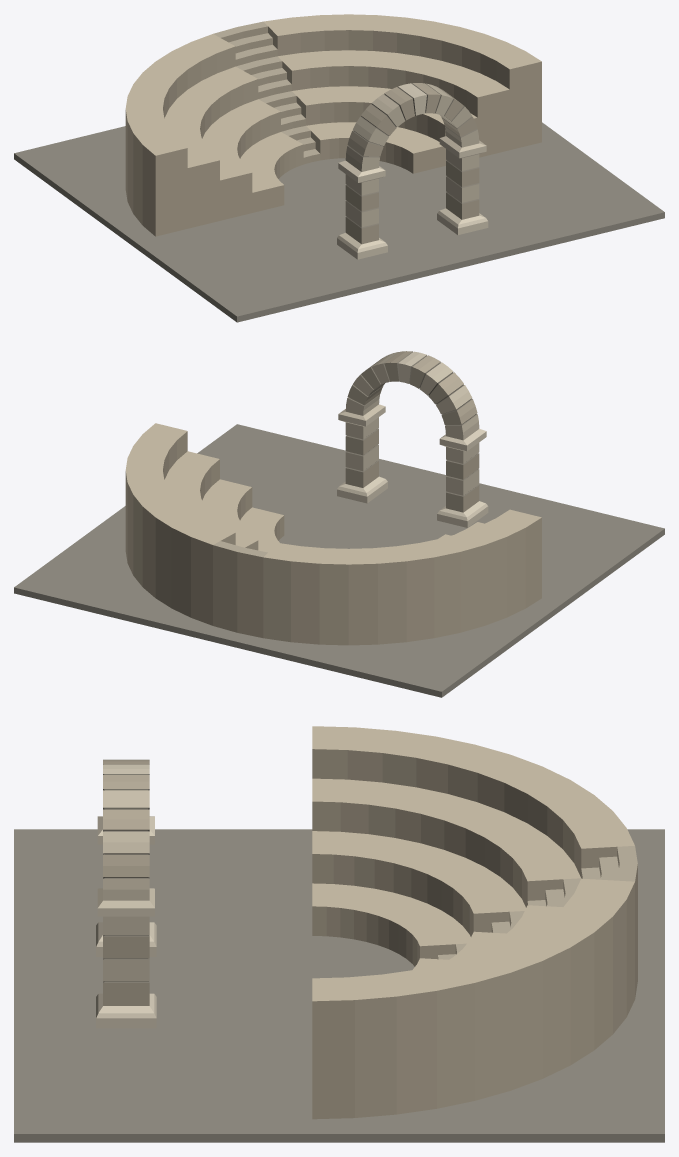
3 renders of one model, top to bottom at view 1: azimuth 30°, elevation 25°; view 2: azimuth 150°, elevation 25°; view 3: azimuth 270°, elevation 25°, orthographic. The views are drawn at different scales.
Parts seen in each view (by area): view 1: cavea__WholeSemicircularTieredStoneCaveaWithRadialAisle, SceneOnly_ContinuousFloor, arch__ContinuousThirteenVoussoirArch; view 2: cavea__WholeSemicircularTieredStoneCaveaWithRadialAisle, SceneOnly_ContinuousFloor, arch__ContinuousThirteenVoussoirArch; view 3: SceneOnly_ContinuousFloor, cavea__WholeSemicircularTieredStoneCaveaWithRadialAisle, arch__ContinuousThirteenVoussoirArch.
Part boxes in pixels (x1,y1,x2,y2): cavea__WholeSemicircularTieredStoneCaveaWithRadialAisle: (125,14,541,236); SceneOnly_ContinuousFloor: (14,122,664,322); arch__ContinuousThirteenVoussoirArch: (337,83,488,259); cavea__WholeSemicircularTieredStoneCaveaWithRadialAisle: (125,423,541,645); SceneOnly_ContinuousFloor: (14,424,664,697); arch__ContinuousThirteenVoussoirArch: (337,351,488,527); SceneOnly_ContinuousFloor: (14,829,664,1142); cavea__WholeSemicircularTieredStoneCaveaWithRadialAisle: (312,726,637,1119); arch__ContinuousThirteenVoussoirArch: (96,759,156,1028).
Size of the model in its own units: 9.3 by 3.15 by 8.4.
